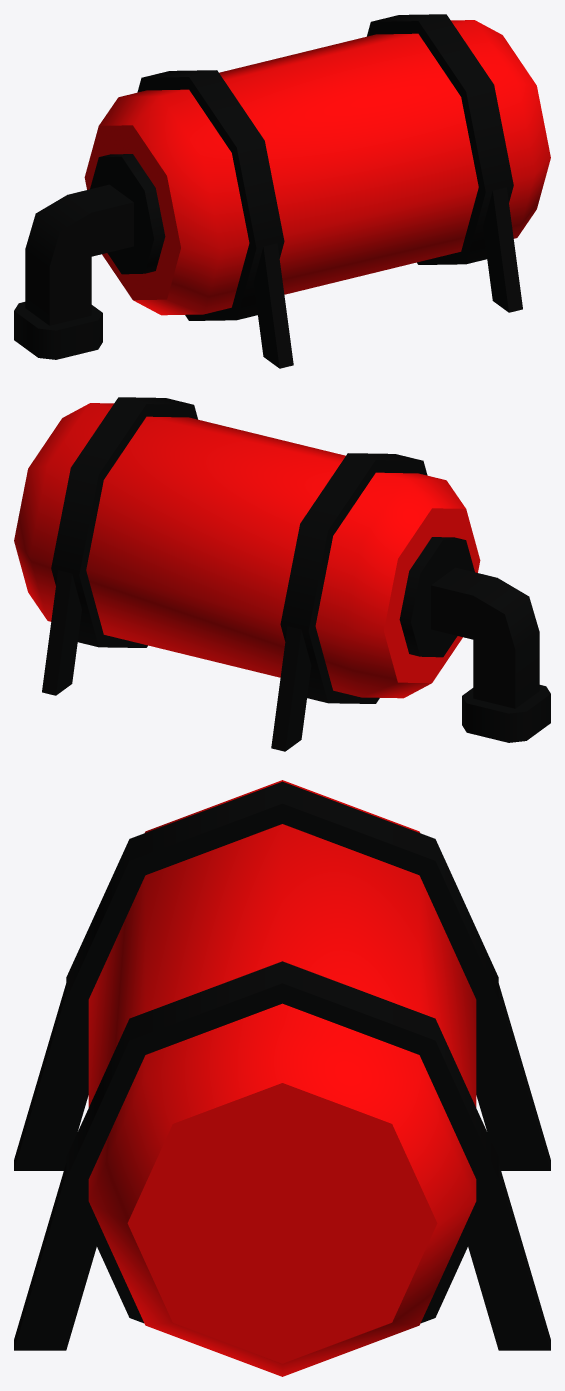
The model's file is detail-tank.glb.
3 views of the same model, one above another, from view 1: azimuth 30°, elevation 25°; view 2: azimuth 150°, elevation 25°; view 3: azimuth 270°, elevation 25° (orthographic). The views are drawn at different scales.
Visible parts, largest first — view 1: detail-tank; view 2: detail-tank; view 3: detail-tank.
Part boxes in pixels (x1,y1,x2,y2): detail-tank: (14,14,550,368); detail-tank: (14,397,550,751); detail-tank: (14,780,550,1376).
Bounding box in the file's own units: 0.848 × 0.415 × 0.5154.
Materials: 1 (1 with a texture image).
